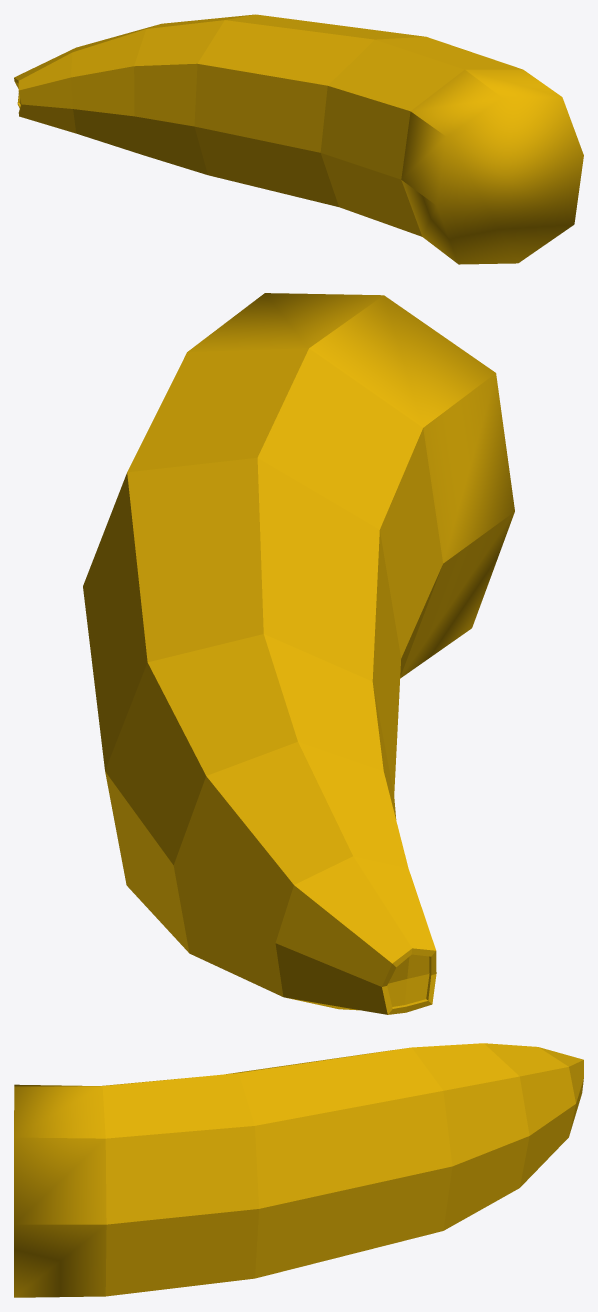
The model's file is banana_right.obj.
The picture shows the model from 3 angles, top to bottom: view 1: azimuth 30°, elevation 25°; view 2: azimuth 150°, elevation 25°; view 3: azimuth 270°, elevation 25°; orthographic projection. The views are drawn at different scales.
Visible parts, largest first — view 1: Banana_Cylinder; view 2: Banana_Cylinder; view 3: Banana_Cylinder.
Boxes of the visible parts, x1,y1,x2,y2 form: Banana_Cylinder: (14,14,583,264); Banana_Cylinder: (83,293,514,1014); Banana_Cylinder: (14,1043,583,1297).
Bounding box in the file's own units: 0.1212 × 0.0596 × 0.1513.
